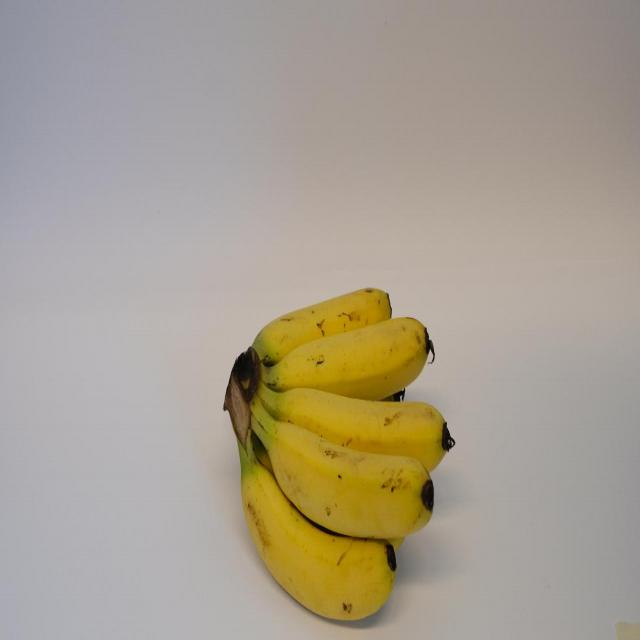banana: (226, 491, 405, 627), (268, 418, 431, 535), (261, 376, 459, 472), (258, 312, 435, 400), (246, 270, 394, 347)
